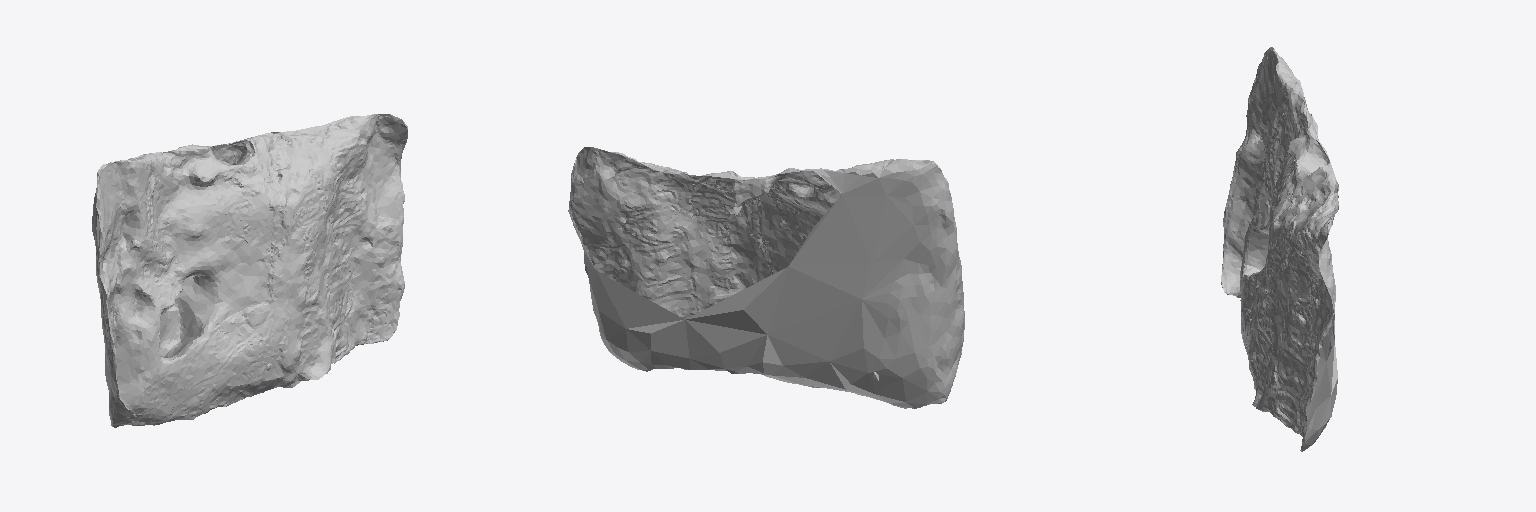
The model's file is 3DModel_LowPoly.obj.
3 renders of one model, left to right at view 1: azimuth 30°, elevation 25°; view 2: azimuth 150°, elevation 25°; view 3: azimuth 270°, elevation 25°, orthographic.
Parts seen in each view (by area): view 1: 3DModel_LowPoly; view 2: 3DModel_LowPoly; view 3: 3DModel_LowPoly.
Part boxes in pixels (left/top/right/bottom): 3DModel_LowPoly: left=92, top=114, right=407, bottom=427; 3DModel_LowPoly: left=568, top=147, right=964, bottom=408; 3DModel_LowPoly: left=1221, top=47, right=1338, bottom=451.
Size of the model in its own units: 0.2513 by 0.182 by 0.0744.